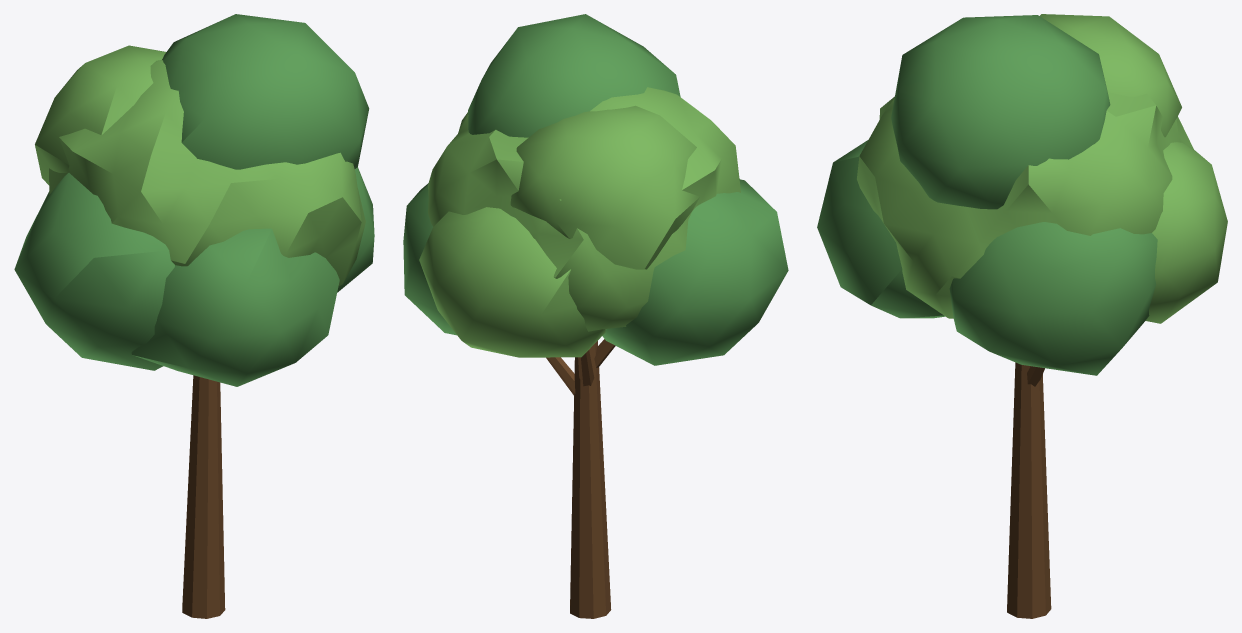
The model's file is tree_round.glb.
The picture shows the model from 3 angles, left to right: view 1: azimuth 30°, elevation 25°; view 2: azimuth 150°, elevation 25°; view 3: azimuth 270°, elevation 25°; orthographic projection. The views are drawn at different scales.
Parts seen in each view (by area): view 1: Cone; view 2: Cone; view 3: Cone.
Boxes of the visible parts, x1,y1,x2,y2 form: Cone: (14,14,374,618); Cone: (403,14,788,618); Cone: (817,14,1227,618).
Bounding box in the file's own units: 4.31 × 7.04 × 4.33.
